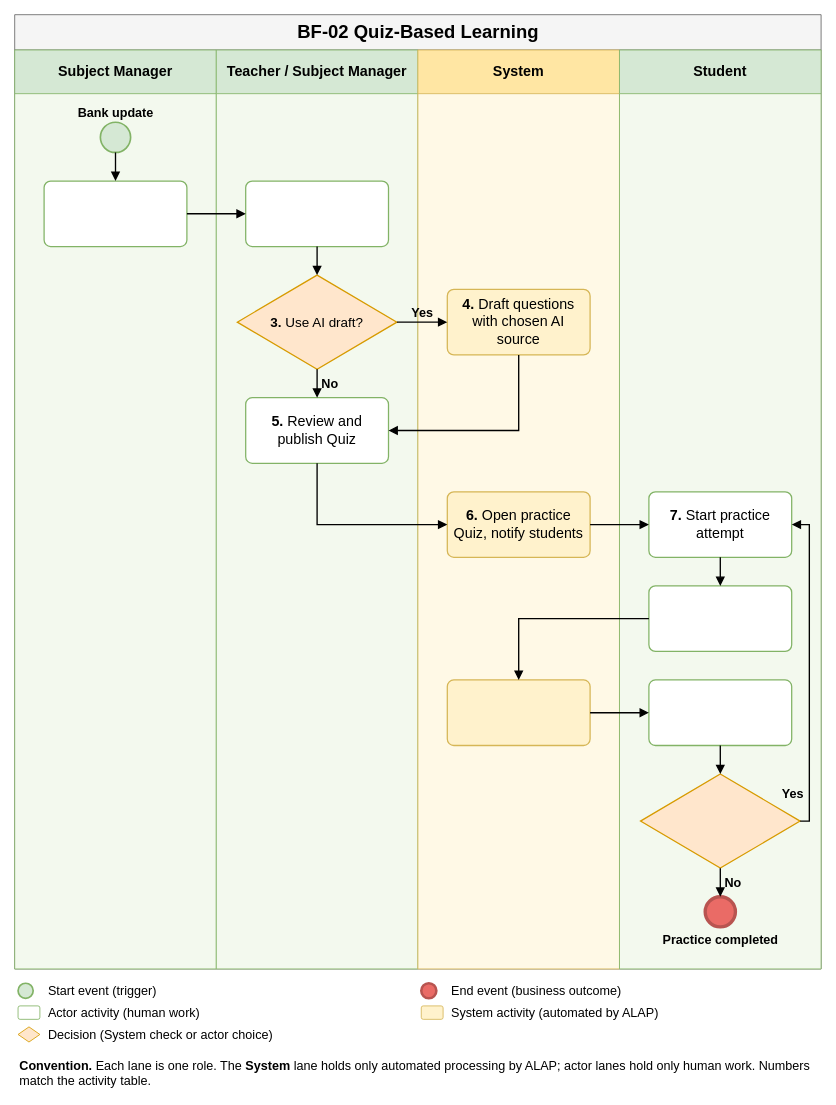
This 836x1105 diagram has some shape labels left out. Each missing label, with the centre of its shape:
"1. Prepare question bank" goes at point (115, 213).
"10. Review result and explanations" goes at point (720, 712).
"11. Practise again?" goes at point (719, 820).
"2. Build Quiz, set rules" goes at point (317, 213).
"8. Answer and submit" goes at point (720, 618).
"9. Score attempt (auto-submit at time limit)" goes at point (518, 712).
